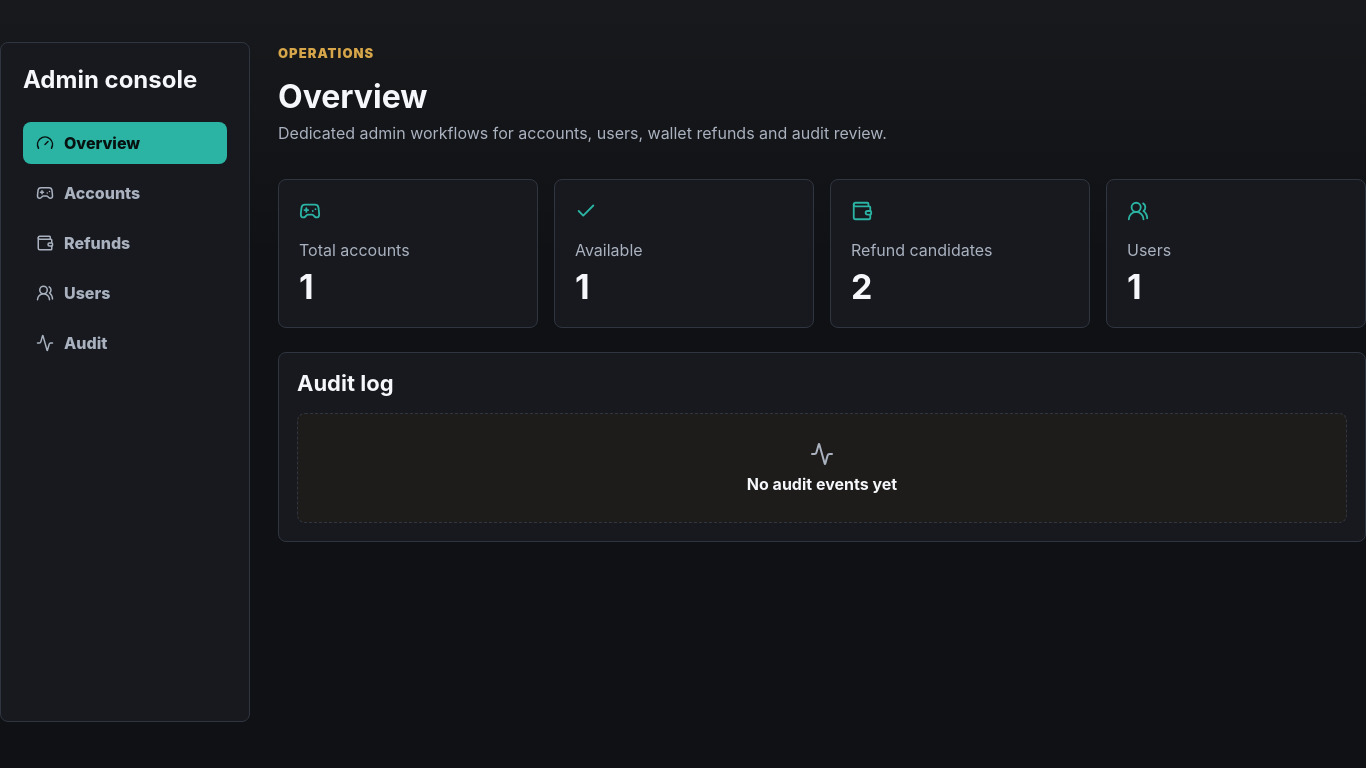
Scenario: AdminView wallet refunds › renders the admin deposit label instead of the raw status code
Click the button "Refunds". click: (125,243)
box: [23,222,227,264]
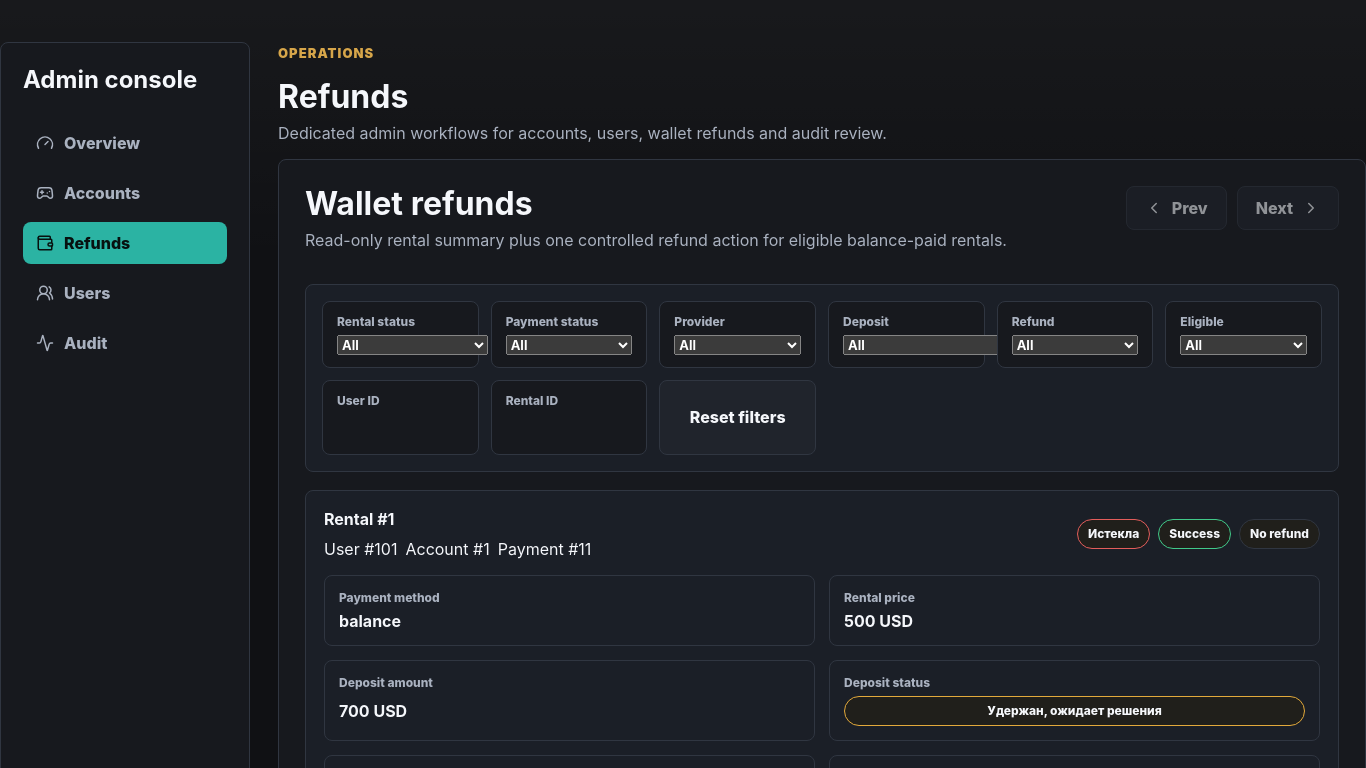
Expected: the text "Удержан, ожидает решения" is shown, [844,696,1305,726]
